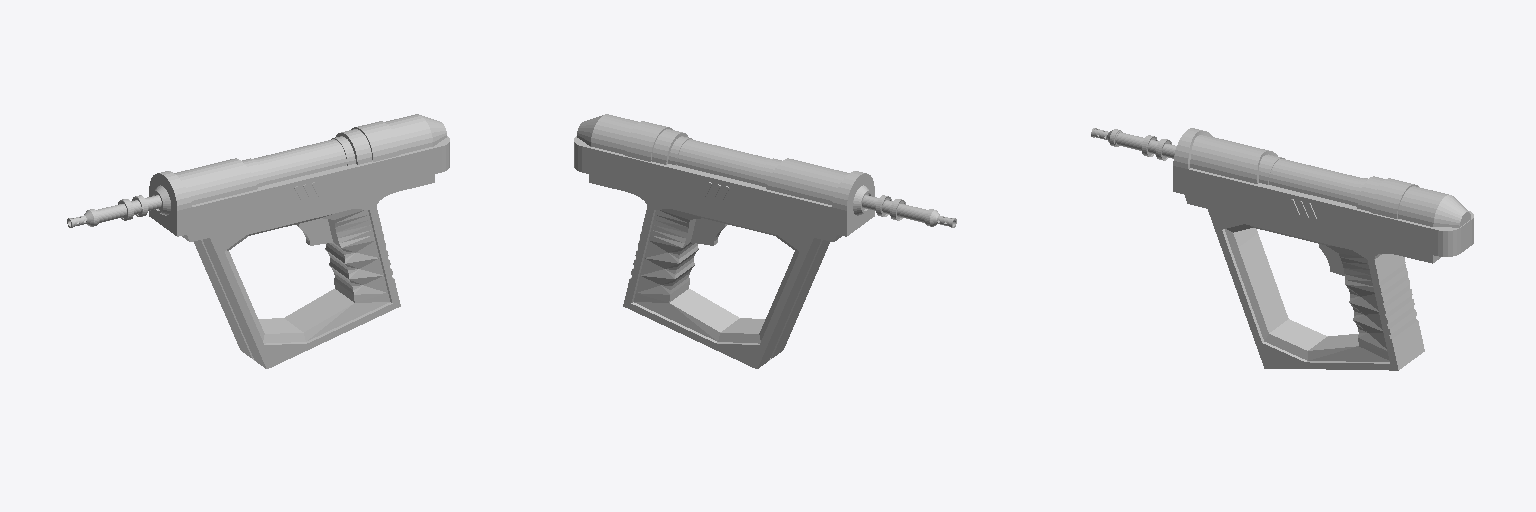
Rendered from Handgun.obj.
The picture shows the model from 3 angles: view 1: azimuth 30°, elevation 25°; view 2: azimuth 150°, elevation 25°; view 3: azimuth 330°, elevation 25°; orthographic projection.
Visible parts, largest first — view 1: Cube.002; view 2: Cube.002; view 3: Cube.002.
Boxes of the visible parts, x1=… form: Cube.002: x1=67, y1=114, x2=449, y2=368; Cube.002: x1=574, y1=114, x2=956, y2=368; Cube.002: x1=1091, y1=128, x2=1473, y2=370.
Size of the model in its own units: 1.9 by 1.01 by 0.261.